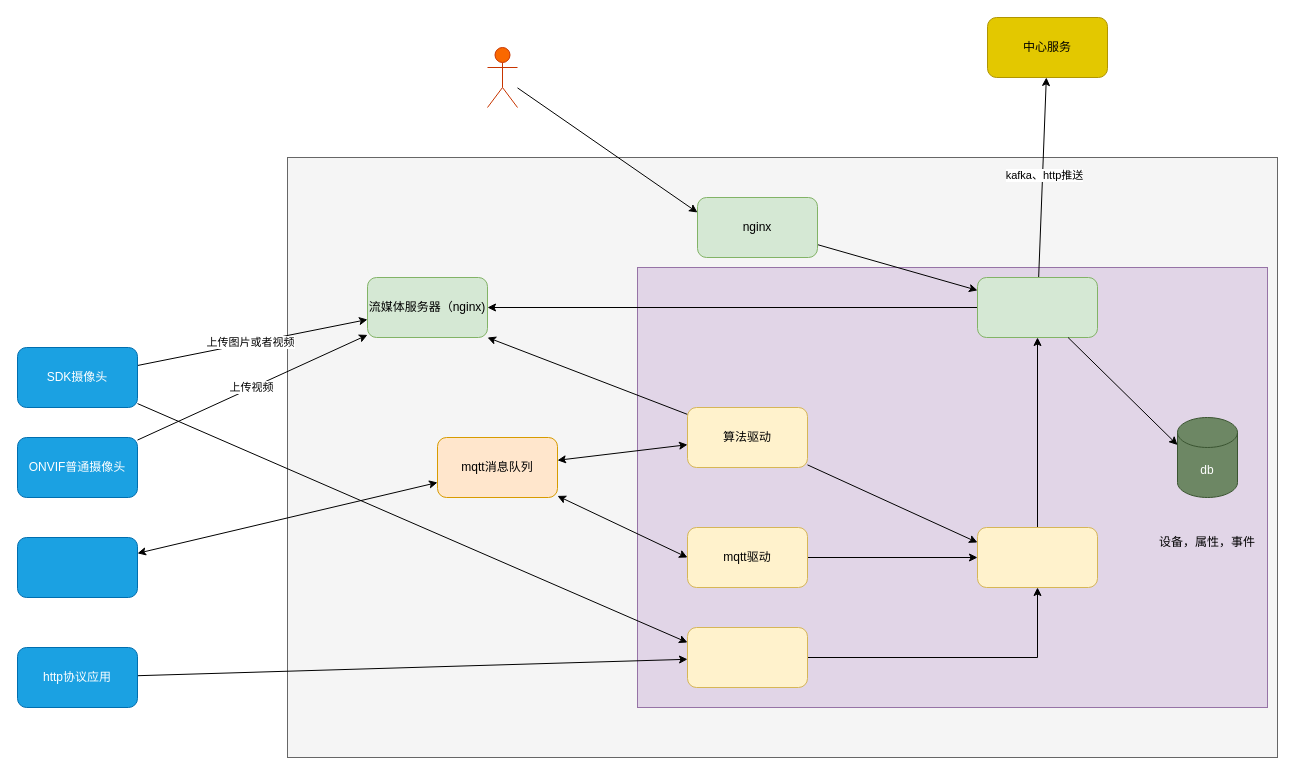
This 1295x775 diagram has some shape labels left out. Each missing label, with the box of its shape:
Actor: (486, 46, 518, 108)
http驱动: (686, 626, 808, 688)
mqtt协议传感器设备: (16, 536, 138, 598)
物联网平台: (976, 526, 1098, 588)
边缘服务: (976, 276, 1098, 338)
